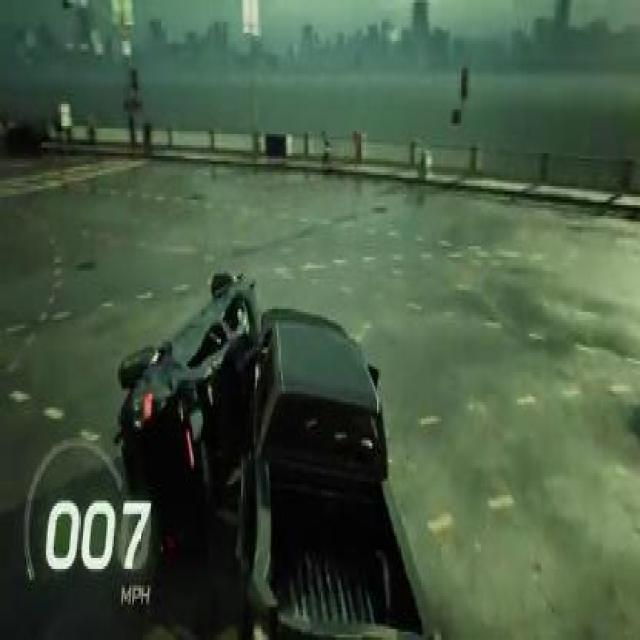accident: (112, 255, 445, 638)
